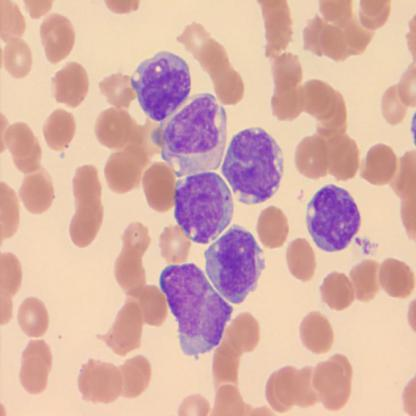Blast: (158, 258, 238, 362), (148, 89, 230, 181), (219, 122, 288, 208), (202, 222, 268, 306), (127, 42, 192, 123), (172, 170, 235, 245), (302, 180, 364, 254)
